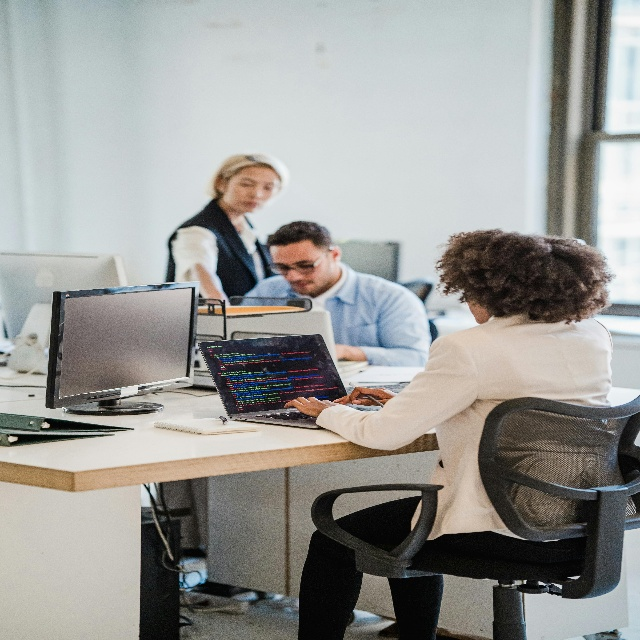Gafas: (269, 257, 326, 278)
Sin_guantes: (285, 390, 329, 416), (335, 384, 389, 403)
